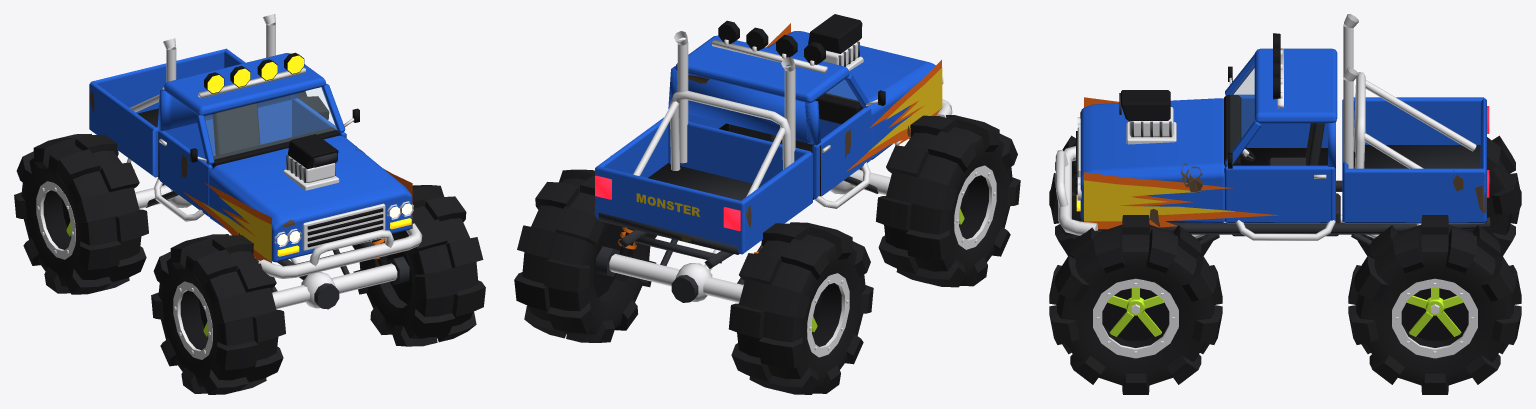
The model's file is monster_truck.glb.
The picture shows the model from 3 angles, left to right: view 1: azimuth 30°, elevation 25°; view 2: azimuth 150°, elevation 25°; view 3: azimuth 270°, elevation 25°; orthographic projection. The views are drawn at different scales.
Parts seen in each view (by area): view 1: Body, WheelRR, WheelFR, WheelFL; view 2: Body, WheelRR, WheelFR, WheelRL; view 3: Body, WheelRL, WheelFL, WheelRR, WheelFR.
Boxes of the visible parts, left/top/right/bottom form: Body: left=89, top=14, right=422, bottom=309; WheelRR: left=14, top=133, right=148, bottom=294; WheelFR: left=151, top=234, right=285, bottom=394; WheelFL: left=352, top=185, right=485, bottom=346; Body: left=594, top=14, right=952, bottom=302; WheelRR: left=728, top=222, right=873, bottom=394; WheelFR: left=876, top=115, right=1020, bottom=287; WheelRL: left=514, top=169, right=657, bottom=342; Body: left=1055, top=14, right=1490, bottom=246; WheelRL: left=1348, top=215, right=1521, bottom=394; WheelFL: left=1049, top=215, right=1222, bottom=394; WheelRR: left=1357, top=135, right=1521, bottom=256; WheelFR: left=1049, top=135, right=1212, bottom=256.
Bounding box in the file's own units: 2.12 × 2.01 × 3.
